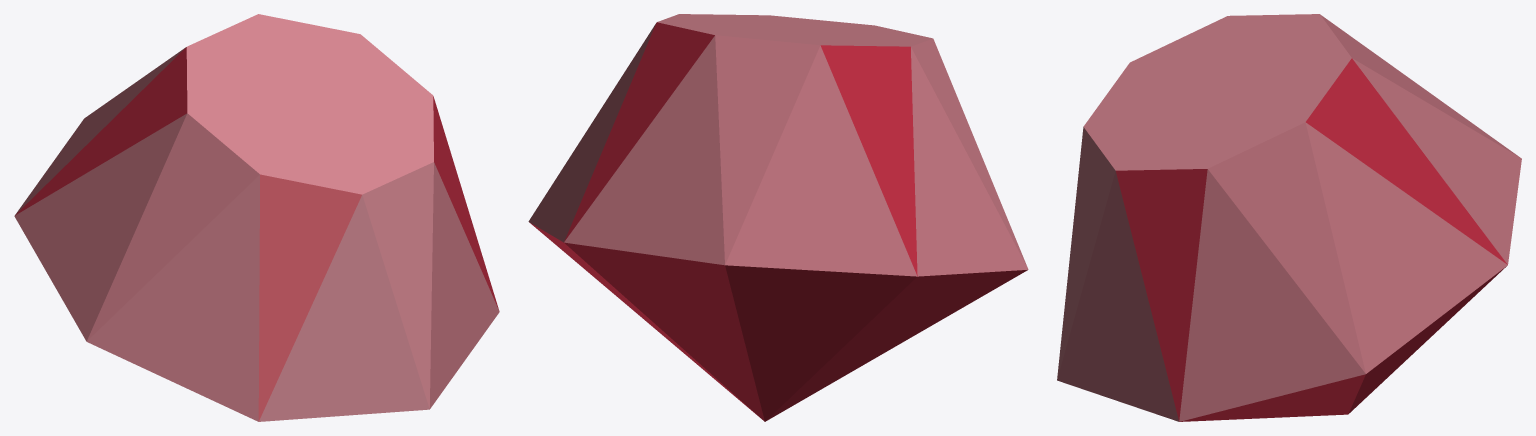
File: item_gem_ruby.glb
3 views of the same model, side by side, from view 1: azimuth 30°, elevation 25°; view 2: azimuth 150°, elevation 25°; view 3: azimuth 270°, elevation 25° (orthographic). The views are drawn at different scales.
Parts seen in each view (by area): view 1: item_gem_ruby_gloss; view 2: item_gem_ruby_gloss; view 3: item_gem_ruby_gloss.
Part boxes in pixels (x1,y1,x2,y2): item_gem_ruby_gloss: (14,14,499,421); item_gem_ruby_gloss: (528,14,1028,421); item_gem_ruby_gloss: (1057,14,1521,421).
Size of the model in its own units: 0.2484 by 0.2105 by 0.2333.
